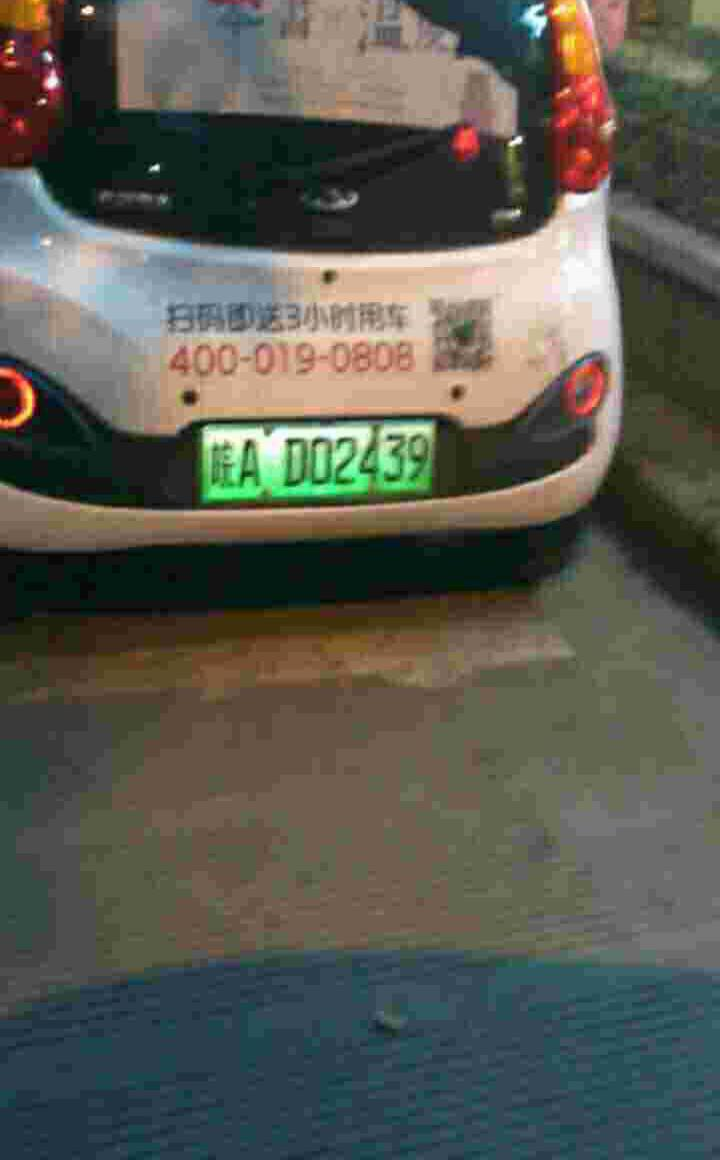car_id: (200, 419, 434, 499)
